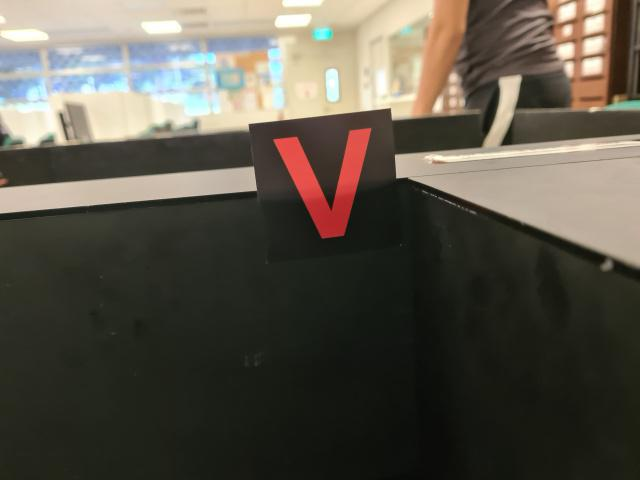alphabet_v: (248, 110, 402, 263)
